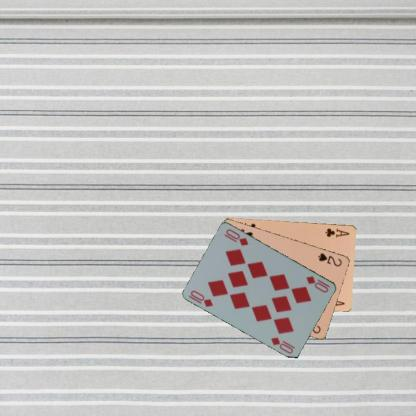10d: (303, 273, 332, 294), (186, 288, 214, 308)
2s: (316, 250, 343, 268)
Ac: (323, 225, 351, 239)
